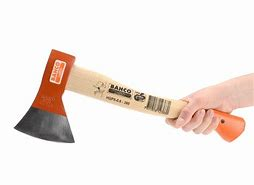axe: (13, 47, 247, 145)
